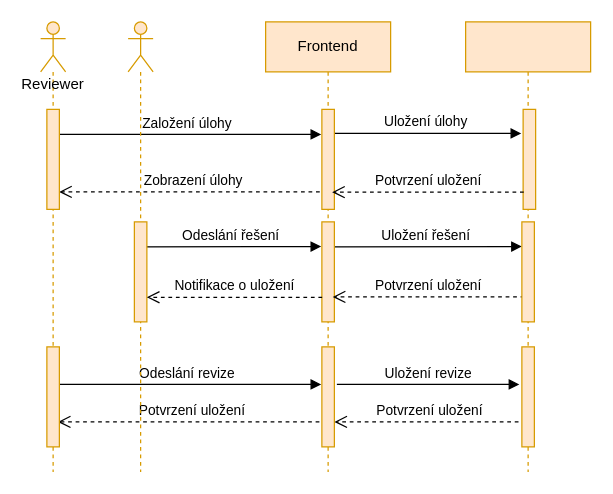
The diagram is 613 pixels wide and 494 high, and some of its shapes have lost their labels. Here are the shapes that lost their labels. From the top down, the centre of each, then its label:
At (140,246): "Submiter".
At (527,246): "Backend".
